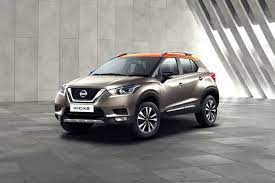Nissan: (56, 46, 221, 137)
